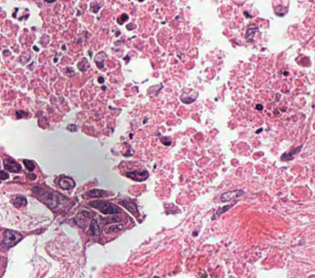nucleus: (33, 187, 58, 207), (89, 200, 119, 214), (281, 145, 302, 160), (220, 189, 243, 201), (119, 200, 137, 215), (213, 205, 231, 218), (127, 170, 148, 181), (74, 211, 88, 227), (245, 23, 257, 41), (58, 176, 74, 189), (105, 223, 123, 233), (89, 219, 99, 236), (180, 94, 196, 103), (87, 189, 105, 197), (103, 215, 120, 223), (78, 58, 87, 70), (117, 14, 127, 23), (161, 137, 170, 144), (98, 77, 103, 82), (256, 105, 262, 109), (127, 25, 134, 28)
